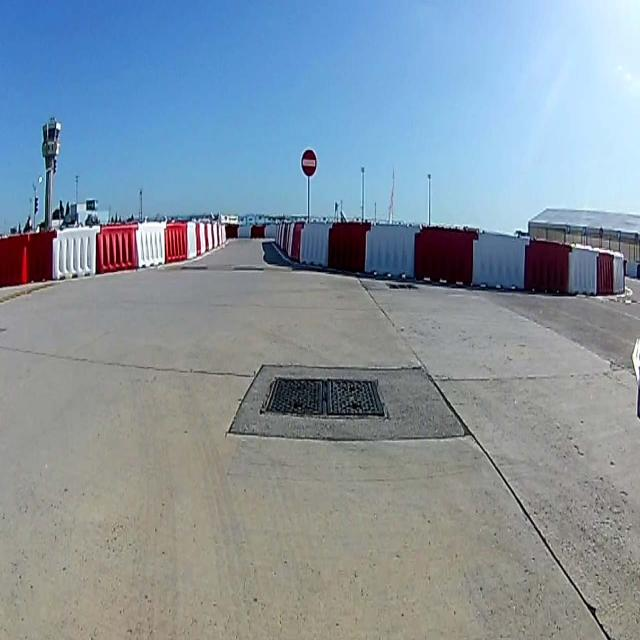girisyok: (301, 149, 317, 176)
